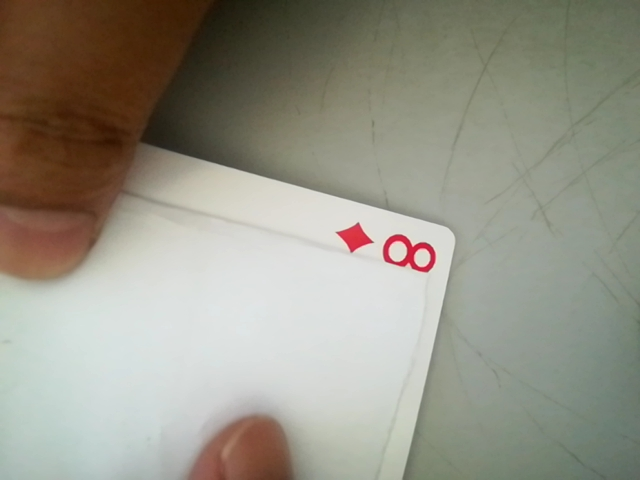fk 8: (344, 220, 445, 274)
